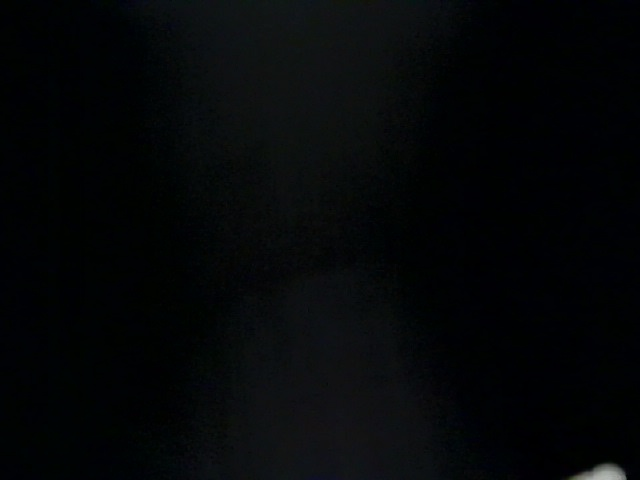YHLJ: (230, 267, 490, 365)
